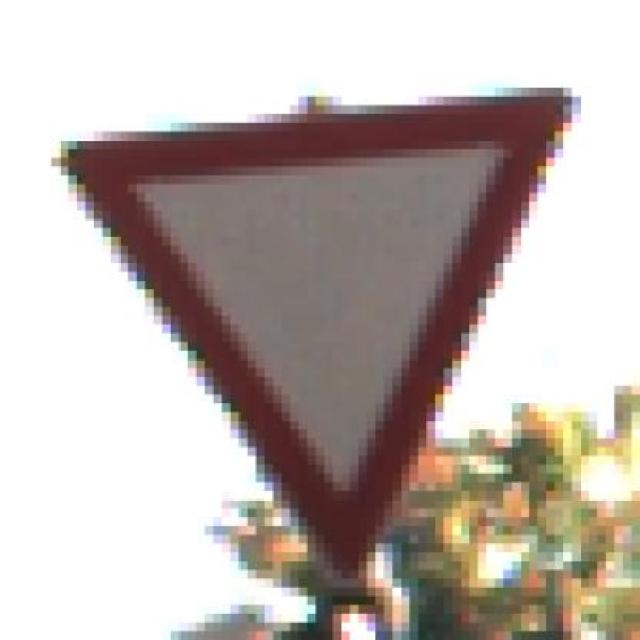Give Way: (40, 88, 612, 604)
